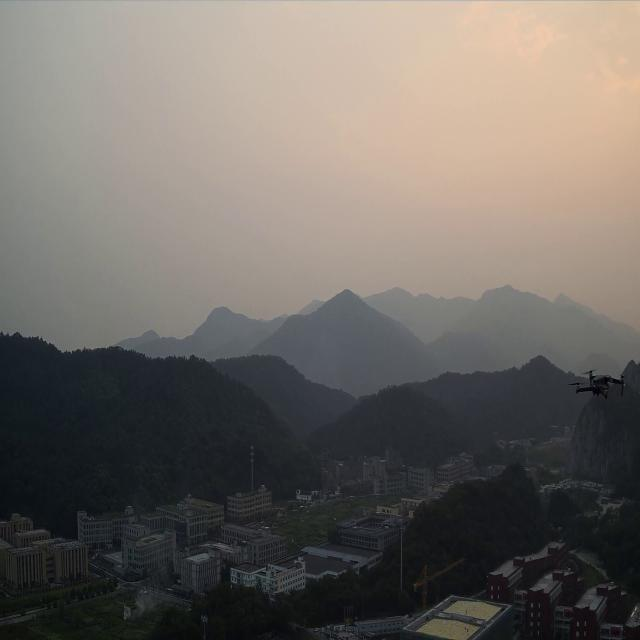UAV: (566, 365, 626, 401)
